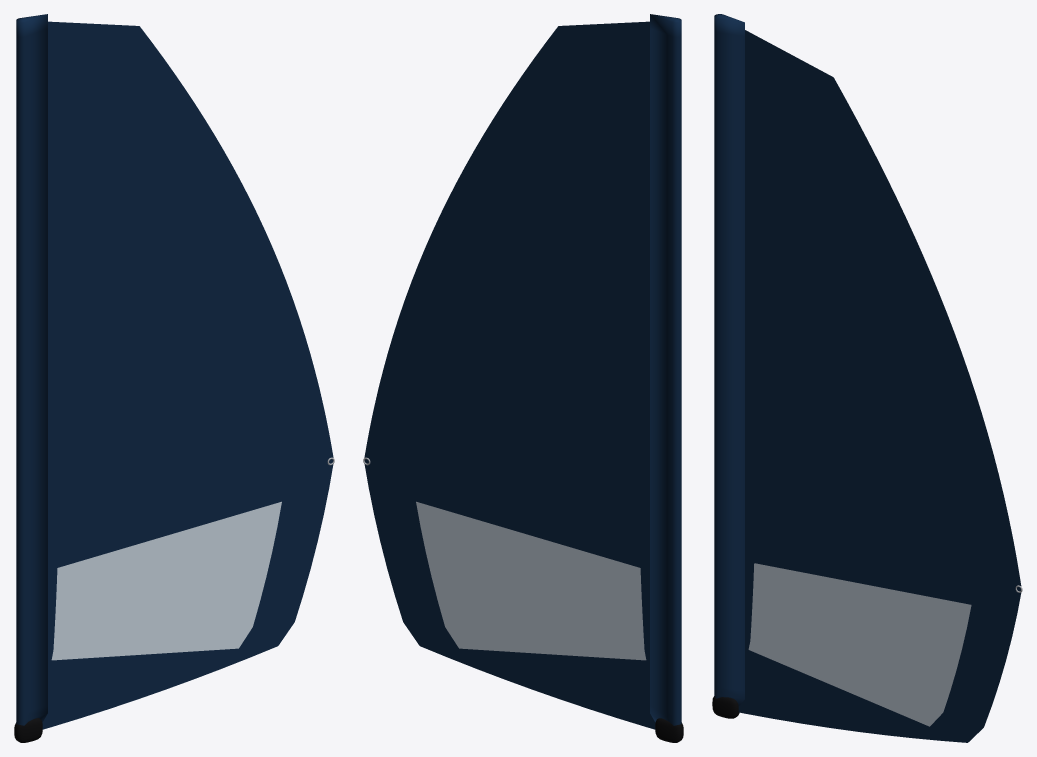
The model's file is southsails_slalom_7_7.glb.
The picture shows the model from 3 angles, left to right: view 1: azimuth 30°, elevation 25°; view 2: azimuth 150°, elevation 25°; view 3: azimuth 330°, elevation 25°; orthographic projection. The views are drawn at different scales.
Parts seen in each view (by area): view 1: SailCloth, TackFairing; view 2: SailCloth, TackFairing; view 3: SailCloth, TackFairing.
Boxes of the visible parts, x1,y1,x2,y2 form: SailCloth: (16, 14, 333, 729); TackFairing: (14, 718, 42, 742); SailCloth: (364, 14, 681, 729); TackFairing: (655, 718, 683, 742); SailCloth: (714, 14, 1021, 742); TackFairing: (712, 696, 739, 718).
Size of the model in its own units: 2.2 by 4.77 by 0.08.
